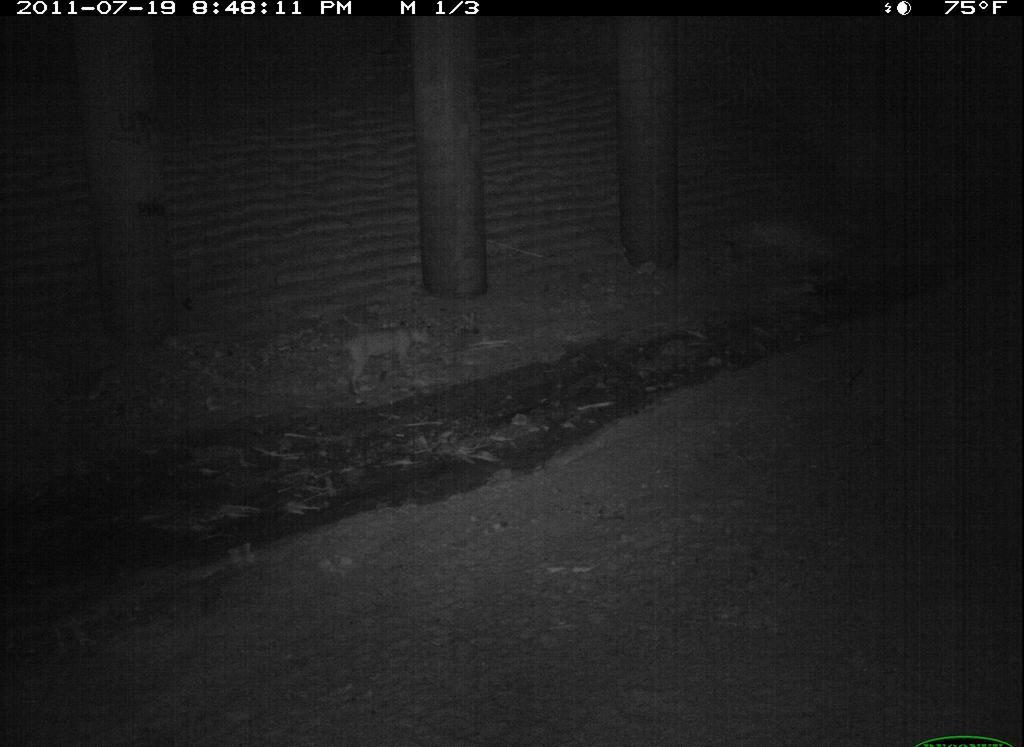bobcat: (670, 636, 878, 747)
